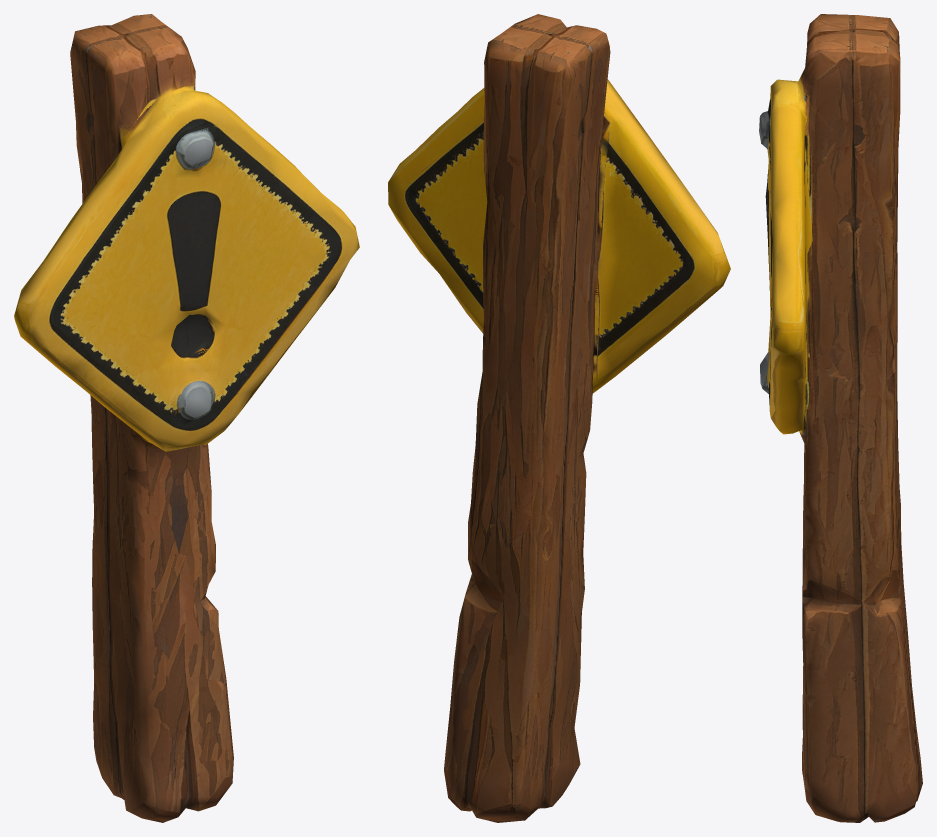
The model's file is WarningSign.glb.
The picture shows the model from 3 angles, left to right: view 1: azimuth 30°, elevation 25°; view 2: azimuth 150°, elevation 25°; view 3: azimuth 270°, elevation 25°; orthographic projection. The views are drawn at different scales.
Parts seen in each view (by area): view 1: texture_mapping; view 2: texture_mapping; view 3: texture_mapping.
Part boxes in pixels (x1,y1,x2,y2): texture_mapping: (14,14,359,822); texture_mapping: (388,14,730,822); texture_mapping: (759,14,922,822).
Bounding box in the file's own units: 0.4474 × 0.9989 × 0.1937.
Materials: 1 (1 with a texture image).
